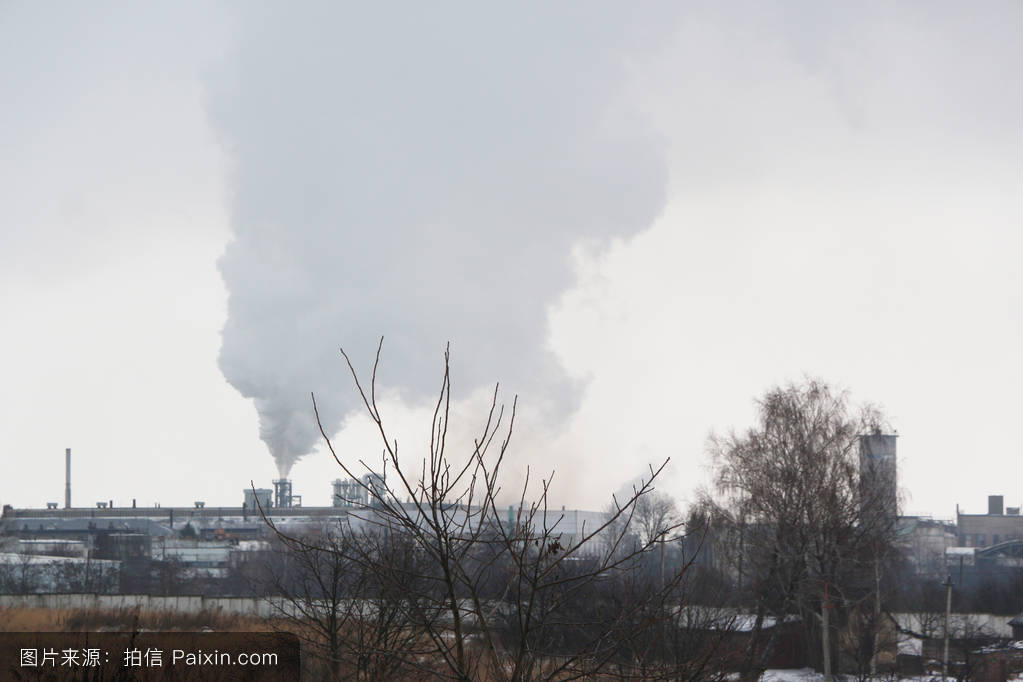dust: (207, 179, 378, 496)
